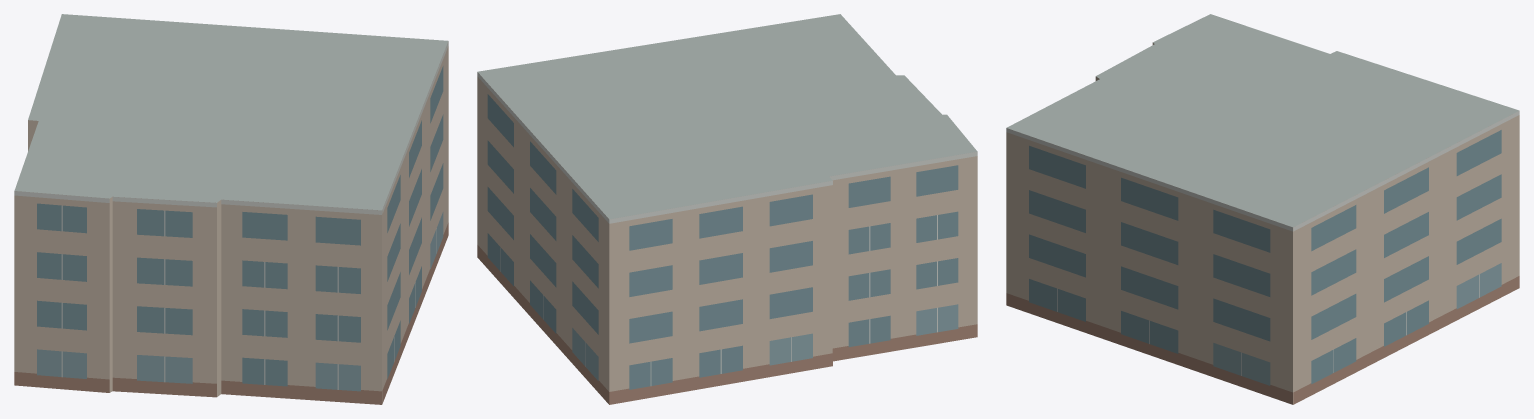
Rendered from survey-upis-32497637.glb.
The picture shows the model from 3 angles, left to right: view 1: azimuth 30°, elevation 25°; view 2: azimuth 150°, elevation 25°; view 3: azimuth 270°, elevation 25°; orthographic projection. The views are drawn at different scales.
Parts seen in each view (by area): view 1: survey-upis-32497637.tmp; view 2: survey-upis-32497637.tmp; view 3: survey-upis-32497637.tmp.
Part boxes in pixels (x1,y1,x2,y2): survey-upis-32497637.tmp: [14, 14, 448, 404]; survey-upis-32497637.tmp: [477, 14, 977, 404]; survey-upis-32497637.tmp: [1006, 14, 1519, 404].
Bounding box in the file's own units: 26.58 × 10.3 × 27.01.
